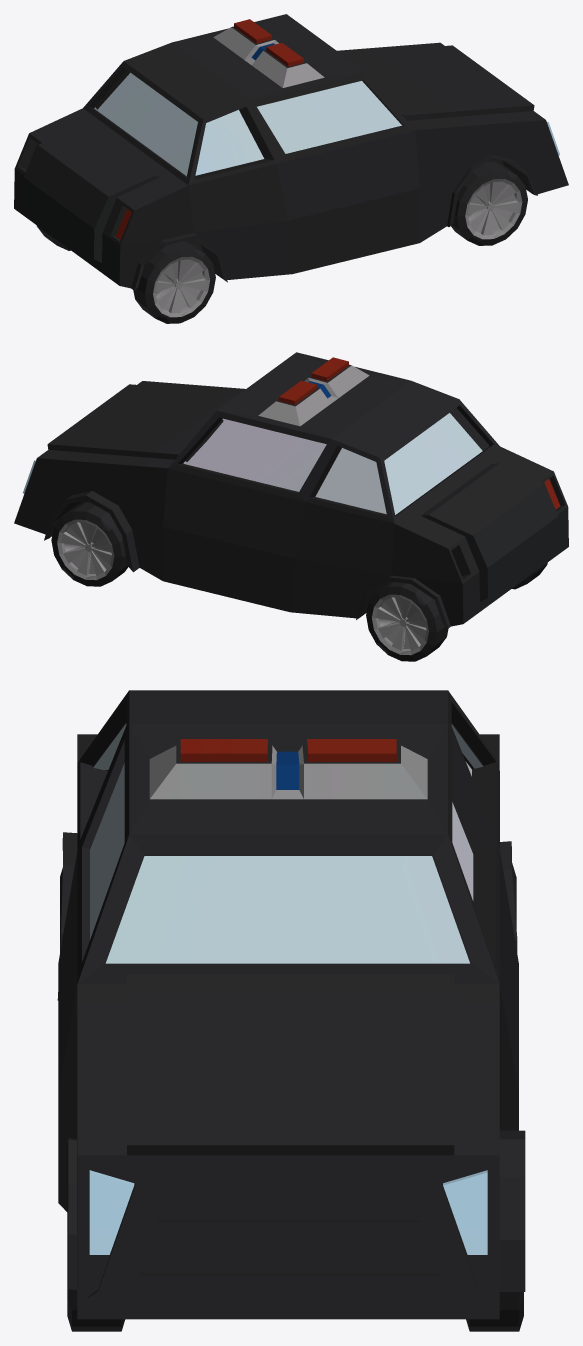
Rendered from police_car.glb.
3 views of the same model, one above another, from view 1: azimuth 30°, elevation 25°; view 2: azimuth 150°, elevation 25°; view 3: azimuth 270°, elevation 25° (orthographic). The views are drawn at different scales.
Visible parts, largest first — view 1: car_police.002, wheel_right_back.001, wheel_right_front.001; view 2: car_police.002, wheel_left_back.001, wheel_left_front.001; view 3: car_police.002, wheel_left_front.001, wheel_right_front.001.
Part boxes in pixels (x1,y1,x2,y2): car_police.002: [14, 14, 568, 290]; wheel_right_back.001: [133, 241, 215, 323]; wheel_right_front.001: [451, 161, 527, 245]; car_police.002: [14, 352, 568, 628]; wheel_left_back.001: [366, 581, 448, 661]; wheel_left_front.001: [51, 502, 128, 586]; car_police.002: [57, 690, 525, 1319]; wheel_left_front.001: [466, 1292, 523, 1331]; wheel_right_front.001: [67, 1283, 125, 1331].
Bounding box in the file's own units: 3.94 × 1.7 × 1.74.
1 material, 1 textured.
